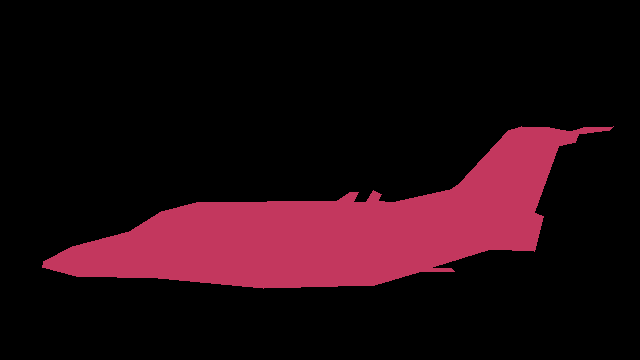Airplane: (42, 126, 613, 289)
